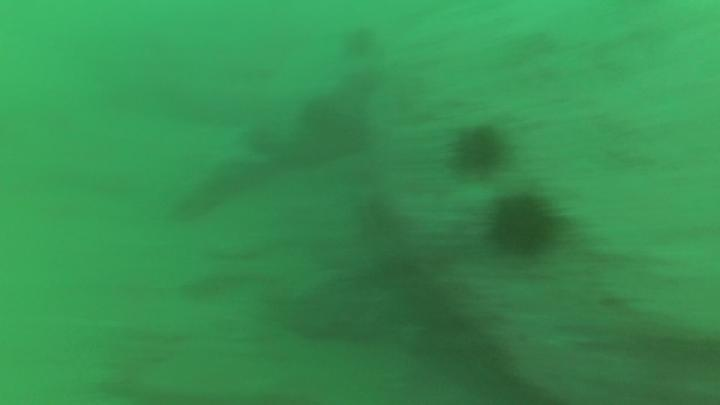echinus: (480, 180, 569, 266), (439, 117, 513, 181)
